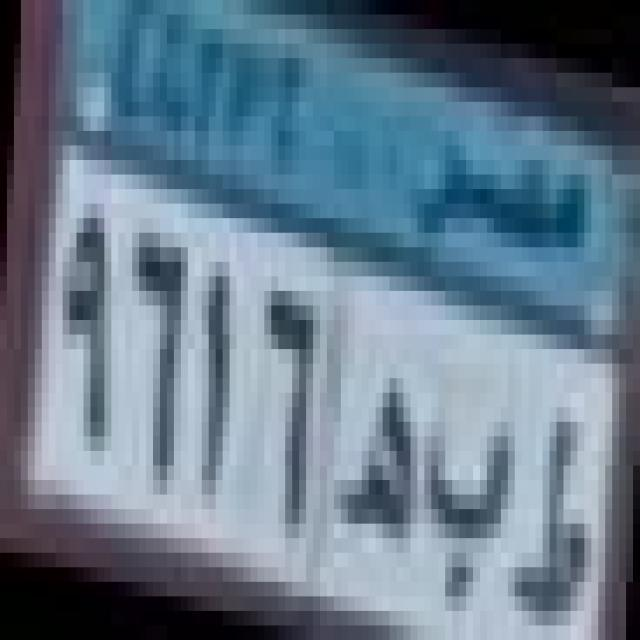1: (195, 261, 245, 502)
6: (264, 280, 328, 534), (131, 227, 195, 479)
9: (62, 204, 121, 458)
Heeh: (348, 358, 421, 544)
Taa: (520, 398, 603, 628)
baa: (421, 404, 517, 616)
